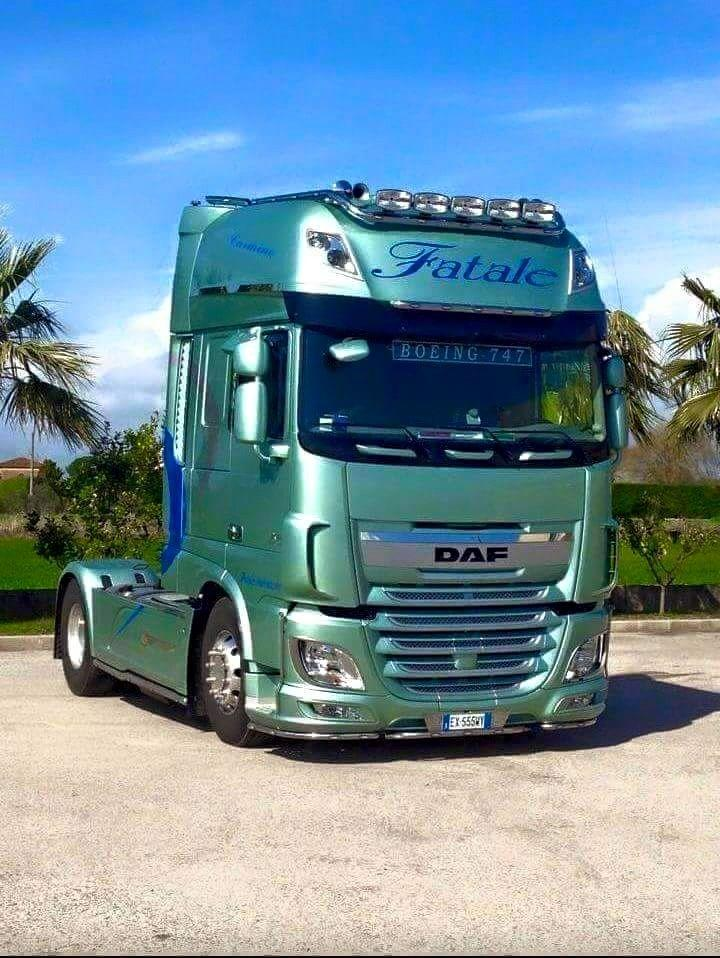vehicle: (54, 180, 629, 747)
